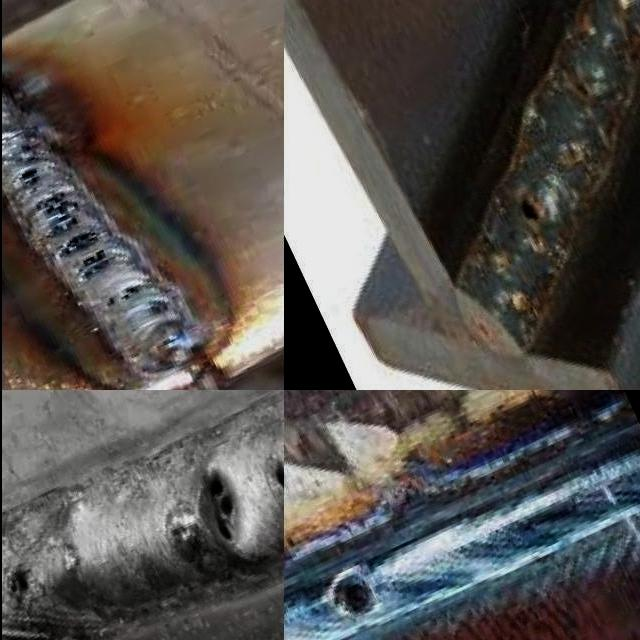defect: (200, 464, 241, 552), (28, 188, 87, 248), (327, 565, 380, 630), (53, 224, 103, 262), (0, 559, 34, 605), (71, 245, 110, 283), (264, 437, 282, 499), (106, 280, 142, 309), (514, 193, 541, 229), (10, 165, 42, 192)
